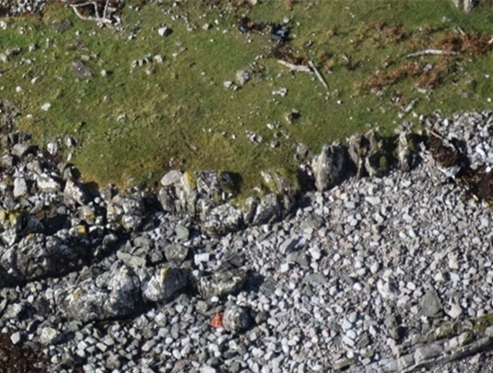scattered_barrel: (229, 7, 335, 90)
white_in_green: (193, 296, 240, 340)
